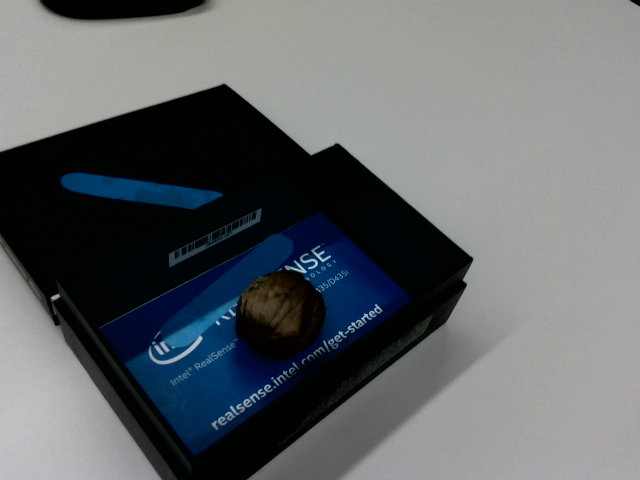walnut: (218, 254, 340, 375)
